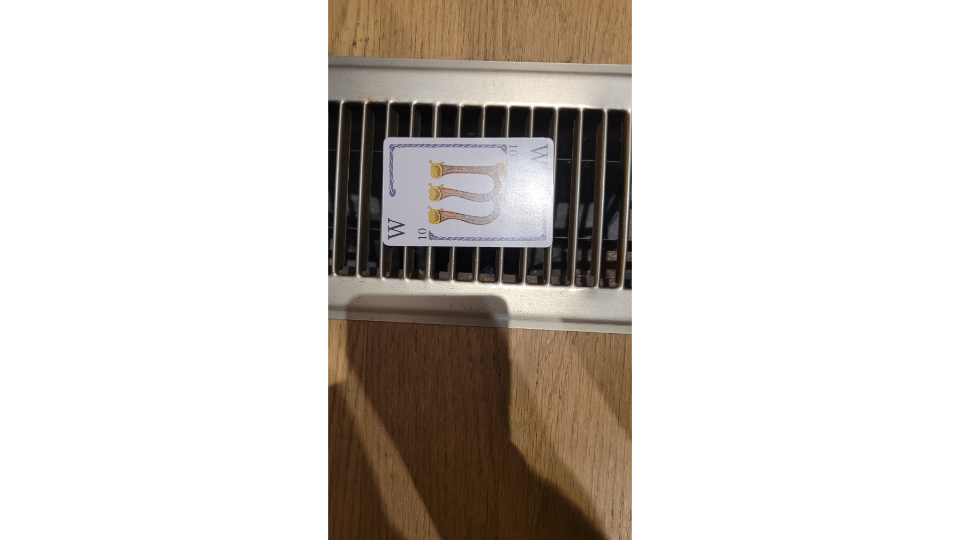W: (378, 133, 557, 251)
